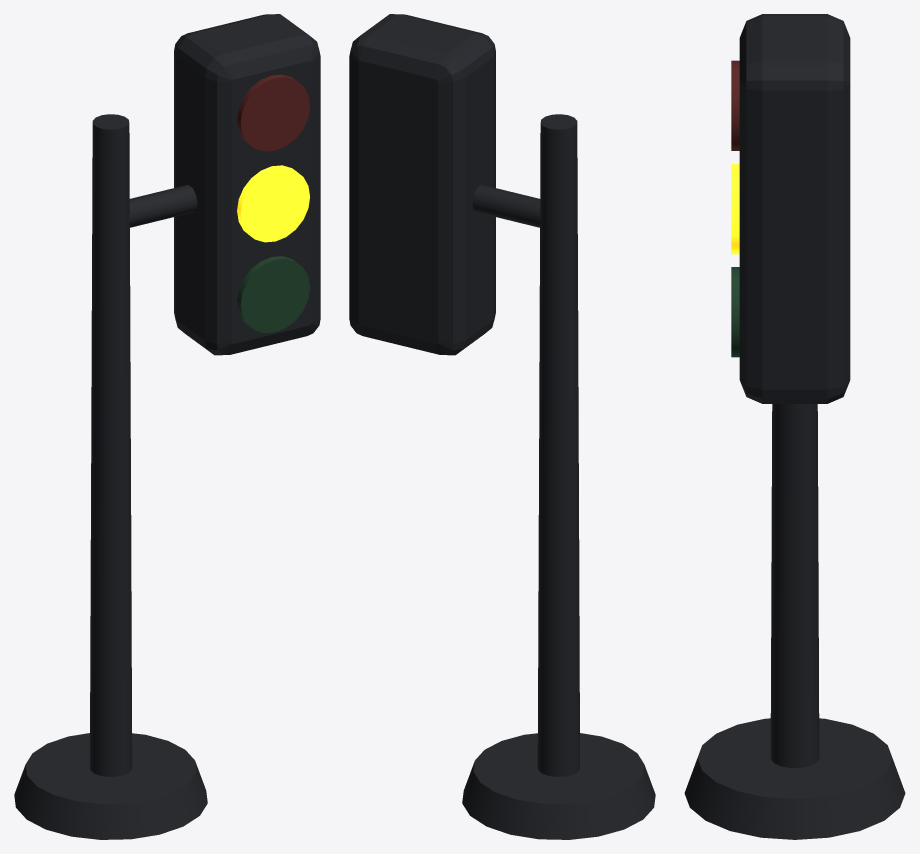
The model's file is traffic_light_yellow.glb.
3 renders of one model, left to right at view 1: azimuth 30°, elevation 25°; view 2: azimuth 150°, elevation 25°; view 3: azimuth 270°, elevation 25°, orthographic. The views are drawn at different scales.
Parts seen in each view (by area): view 1: HeadBox, Pole, Base, Lamp_Yellow, Lamp_Green, Lamp_Red, Arm; view 2: HeadBox, Pole, Base, Arm; view 3: HeadBox, Base, Pole, Lamp_Red, Lamp_Yellow, Lamp_Green.
Boxes of the visible parts, x1,y1,x2,y2 form: HeadBox: (174, 14, 320, 355); Pole: (90, 114, 132, 776); Base: (14, 733, 207, 839); Lamp_Yellow: (237, 165, 309, 242); Lamp_Green: (237, 256, 309, 332); Lamp_Red: (237, 74, 309, 151); Arm: (128, 185, 197, 227); HeadBox: (349, 14, 495, 355); Pole: (537, 114, 579, 776); Base: (462, 733, 655, 839); Arm: (472, 185, 541, 227); HeadBox: (739, 14, 850, 403); Base: (684, 718, 905, 839); Pole: (770, 404, 819, 767); Lamp_Red: (731, 60, 739, 150); Lamp_Yellow: (731, 164, 739, 254); Lamp_Green: (731, 267, 739, 357).
Size of the model in its own units: 1.12 by 2.82 by 0.68.
